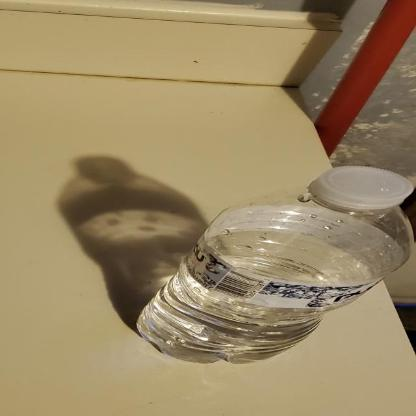Plastic Bottle: (138, 167, 414, 363)
